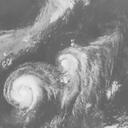cyclone: (3, 62, 51, 115), (56, 46, 90, 83)
